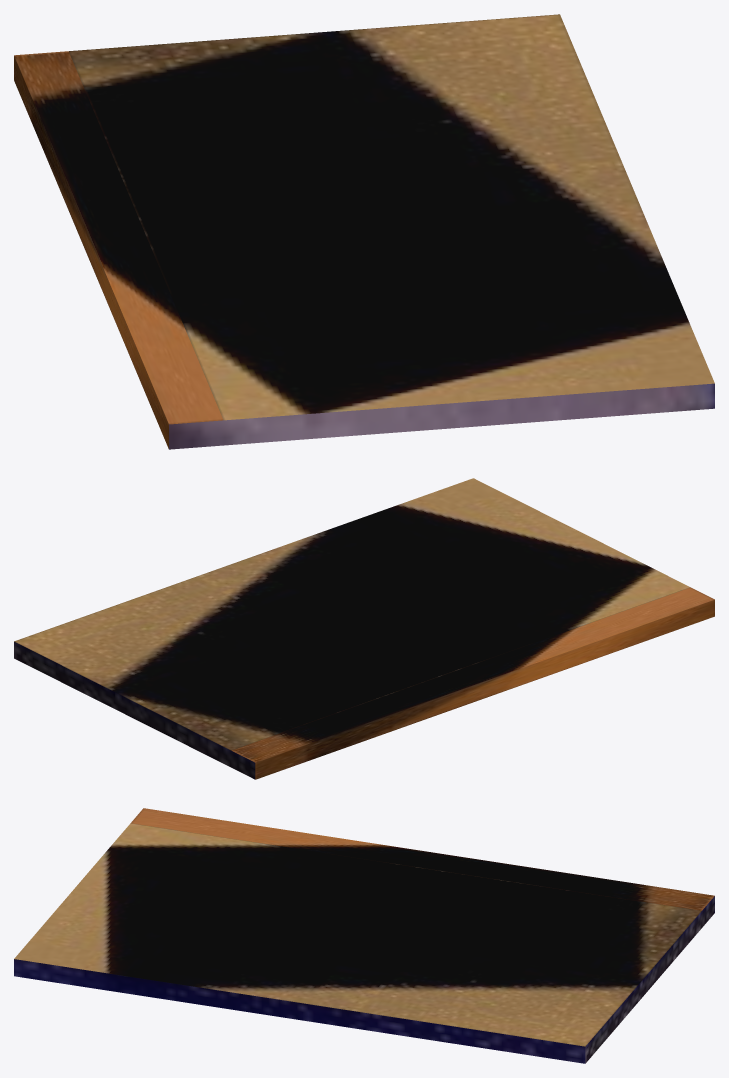
File: notebook_bottom.glb
3 renders of one model, top to bottom at view 1: azimuth 30°, elevation 25°; view 2: azimuth 150°, elevation 25°; view 3: azimuth 270°, elevation 25°, orthographic. The views are drawn at different scales.
Parts seen in each view (by area): view 1: notebook_bottom; view 2: notebook_bottom; view 3: notebook_bottom.
Part boxes in pixels (box(x1,y1,x2,y2)): notebook_bottom: box(14, 14, 714, 449); notebook_bottom: box(14, 478, 714, 779); notebook_bottom: box(14, 808, 714, 1063).
Size of the model in its own units: 2.73 by 0.0919 by 3.39.
3 materials, 3 textured.
